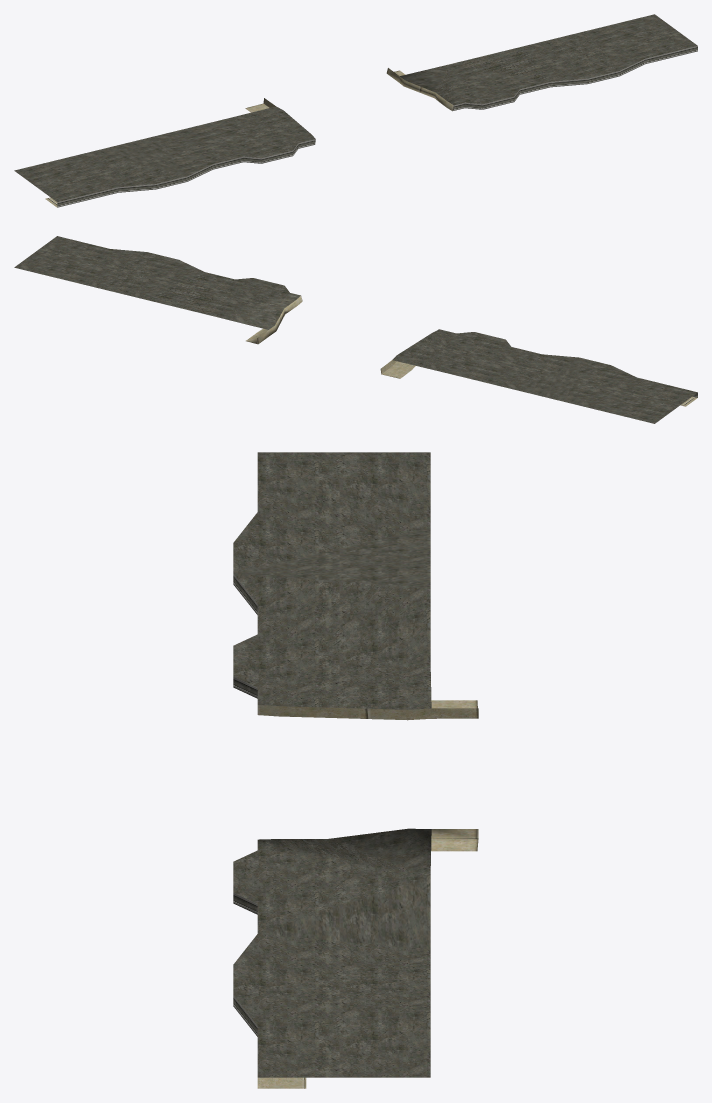
File: DWARF_PALACE_MAINHALL_UPPERBALK_FLOOR.fbx
3 renders of one model, top to bottom at view 1: azimuth 30°, elevation 25°; view 2: azimuth 150°, elevation 25°; view 3: azimuth 270°, elevation 25°, orthographic. The views are drawn at different scales.
Parts seen in each view (by area): view 1: DWARF_PALACE_MAINHALL_UPPERBALK_FLOOR; view 2: DWARF_PALACE_MAINHALL_UPPERBALK_FLOOR; view 3: DWARF_PALACE_MAINHALL_UPPERBALK_FLOOR.
Part boxes in pixels (bbox=[...]): DWARF_PALACE_MAINHALL_UPPERBALK_FLOOR: bbox=[14, 14, 697, 207]; DWARF_PALACE_MAINHALL_UPPERBALK_FLOOR: bbox=[14, 236, 697, 423]; DWARF_PALACE_MAINHALL_UPPERBALK_FLOOR: bbox=[233, 452, 478, 1088].
Bounding box in the file's own units: 608001 × 5000 × 100710.
Materials: 3 (3 with a texture image).
